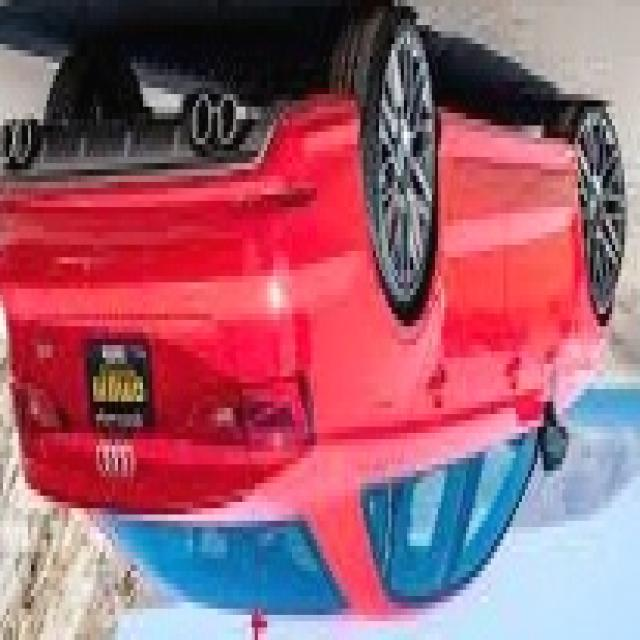red: (4, 62, 622, 639)
